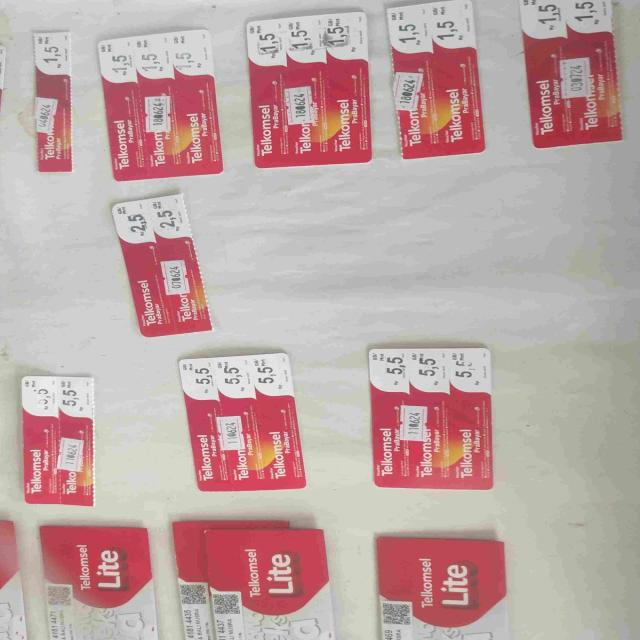Telkomsel: (172, 516, 341, 640), (178, 352, 316, 495), (244, 14, 371, 169), (367, 344, 497, 494), (97, 33, 224, 179), (383, 0, 489, 158), (519, 0, 626, 150), (374, 528, 514, 640), (108, 196, 215, 339), (41, 522, 160, 640), (16, 372, 100, 511), (31, 30, 74, 172), (1, 522, 28, 640)
